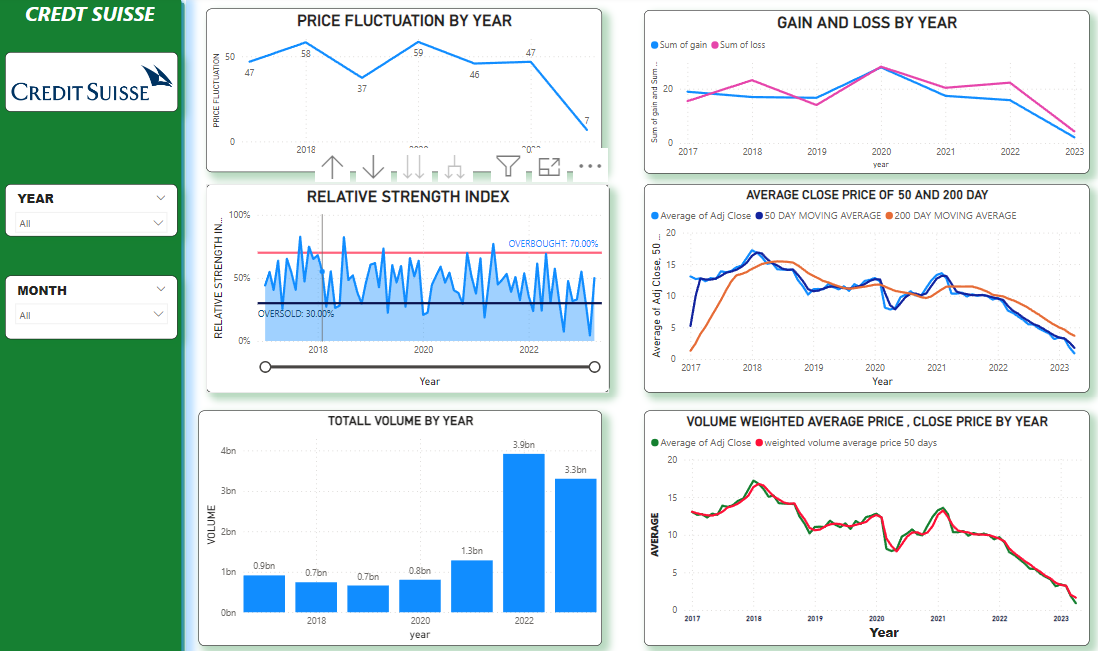

What the dashboard file says about the page in this screenshot:
{"tool":"powerbi","page":{"name":"TRADING INDICATORS","canvas":[1500,900],"ordinal":1},"visuals":[{"type":"lineChart","title":"GAIN AND LOSS BY YEAR","fields":{"Category":["year.year"],"Y":["Sum(Credit Suisse.gain)","Sum(Credit Suisse.loss)"]},"box":[877.8,20.2,600.7,220.4],"z":0},{"type":"lineChart","title":"PRICE FLUCTUATION BY YEAR","fields":{"Category":["year.year"],"Y":["ALL  MEAUSRES.PRICE FLUCTUATION"]},"box":[287.2,18.2,533.9,220.4],"z":1000},{"type":"shape","box":[0,0,260.9,900],"z":2000},{"type":"slicer","fields":{"Values":["month.MonthName"]},"box":[16.2,378.6,233,85.8],"z":3000},{"type":"slicer","fields":{"Values":["year.year"]},"box":[16.2,254.8,232.6,70.8],"z":4000},{"type":"image","box":[15.4,77,233,80.9],"z":5000},{"type":"areaChart","title":"RELATIVE STRENGTH INDEX ","fields":{"Category":["Credit Suisse.Date.Variation.Date Hierarchy.Year","Credit Suisse.Date.Variation.Date Hierarchy.Month"],"Y":["ALL  MEAUSRES.RELATIVE STRENGTH INDEX"]},"box":[287.2,254.8,544,281.1],"z":6000},{"type":"lineChart","title":"AVERAGE CLOSE PRICE OF 50 AND 200 DAY","fields":{"Y":["Avg(Credit Suisse.Adj Close)","ALL  MEAUSRES.50 DAY MOVING AVERAGE","ALL  MEAUSRES.200 DAY MOVING AVERAGE"],"Category":["Credit Suisse.Date.Variation.Date Hierarchy.Year","Credit Suisse.Date.Variation.Date Hierarchy.Month"]},"box":[877.8,254.8,600.7,281.1],"z":7000},{"type":"lineChart","title":"VOLUME WEIGHTED AVERAGE PRICE , CLOSE PRICE BY YEAR","fields":{"Y":["Avg(Credit Suisse.Adj Close)","ALL  MEAUSRES.weighted volume average price 50 days"],"Category":["Credit Suisse.Date.Variation.Date Hierarchy.Year","Credit Suisse.Date.Variation.Date Hierarchy.Quarter","Credit Suisse.Date.Variation.Date Hierarchy.Month"]},"box":[877.8,560.2,600.7,317.5],"z":8000},{"type":"clusteredColumnChart","title":"TOTALL VOLUME BY YEAR","fields":{"Y":["Sum(Credit Suisse.Volume)"],"Category":["year.year"]},"box":[277.1,560.2,544,317.5],"z":9000}]}

Visuals, with their boxes in screenshot pixels (x1, y1, x2, y2), scaled from the page's 1500x900 canvas onto the 1098x651 screenshot:
"GAIN AND LOSS BY YEAR" lineChart: Rect(643, 15, 1082, 174)
"PRICE FLUCTUATION BY YEAR" lineChart: Rect(210, 13, 601, 173)
shape: Rect(0, 0, 191, 650)
slicer - month.MonthName: Rect(12, 274, 182, 336)
slicer - year.year: Rect(12, 184, 182, 236)
image: Rect(11, 56, 182, 114)
"RELATIVE STRENGTH INDEX " areaChart: Rect(210, 184, 608, 388)
"AVERAGE CLOSE PRICE OF 50 AND 200 DAY" lineChart: Rect(643, 184, 1082, 388)
"VOLUME WEIGHTED AVERAGE PRICE , CLOSE PRICE BY YEAR" lineChart: Rect(643, 405, 1082, 635)
"TOTALL VOLUME BY YEAR" clusteredColumnChart: Rect(203, 405, 601, 635)
